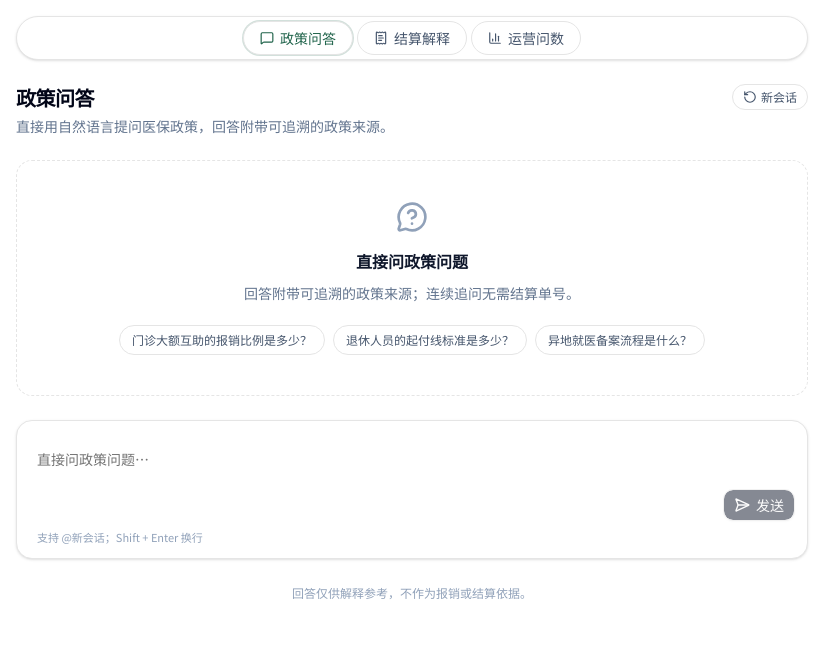
Test: PolicyQAWorkspace › switches to the ops workspace and back to policy
Step 1. Click the button with test id "agent-switcher-ops" → (526,38), box [471,21,581,55]
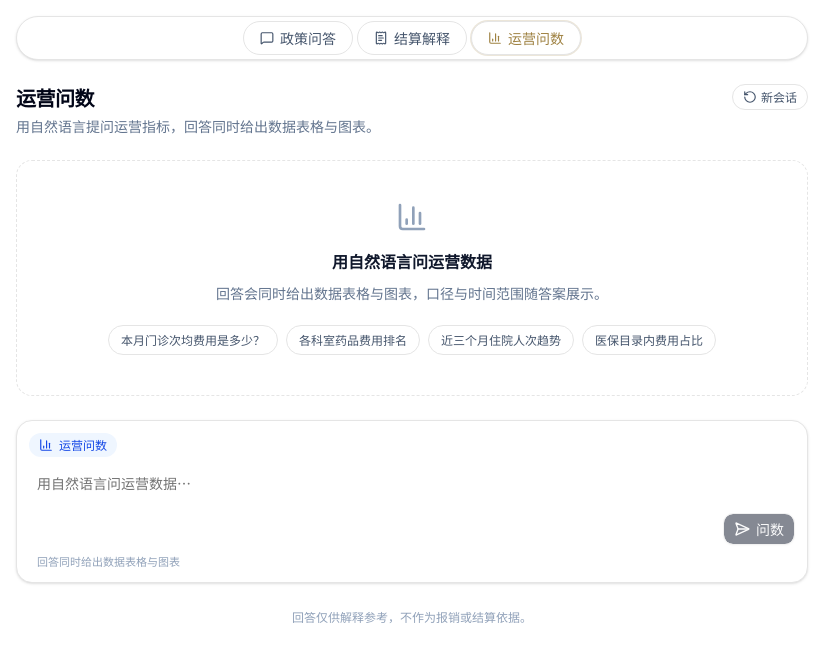
Now the element with test id "agent-workspace-ops" is shown
Now the heading "运营问数" is shown, box [16,83,94,112]
Step 2. Click the button with test id "agent-switcher-policy" → (298,38), box [243,21,353,55]
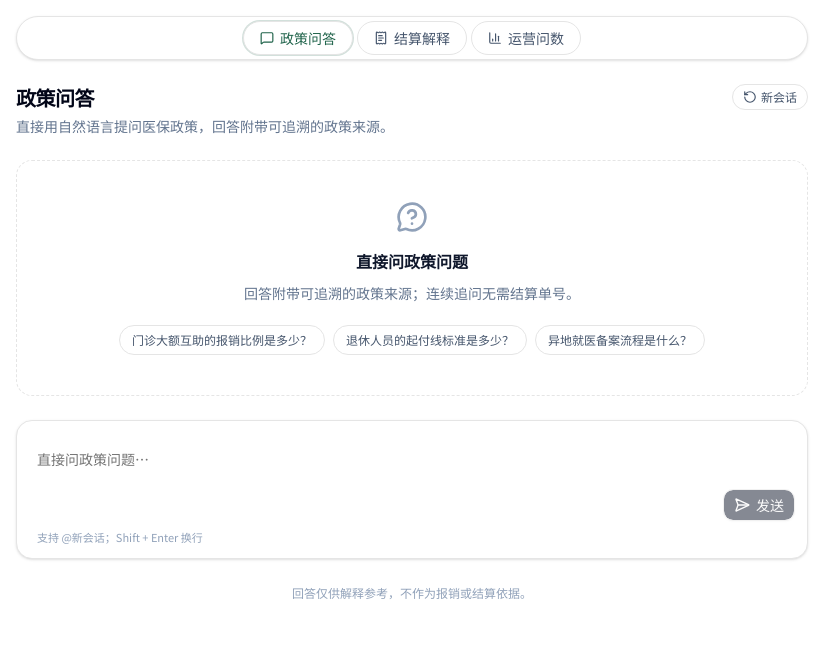
Now the element with test id "agent-workspace-policy" is shown
Now the heading "政策问答" is shown, box [16,83,94,112]
